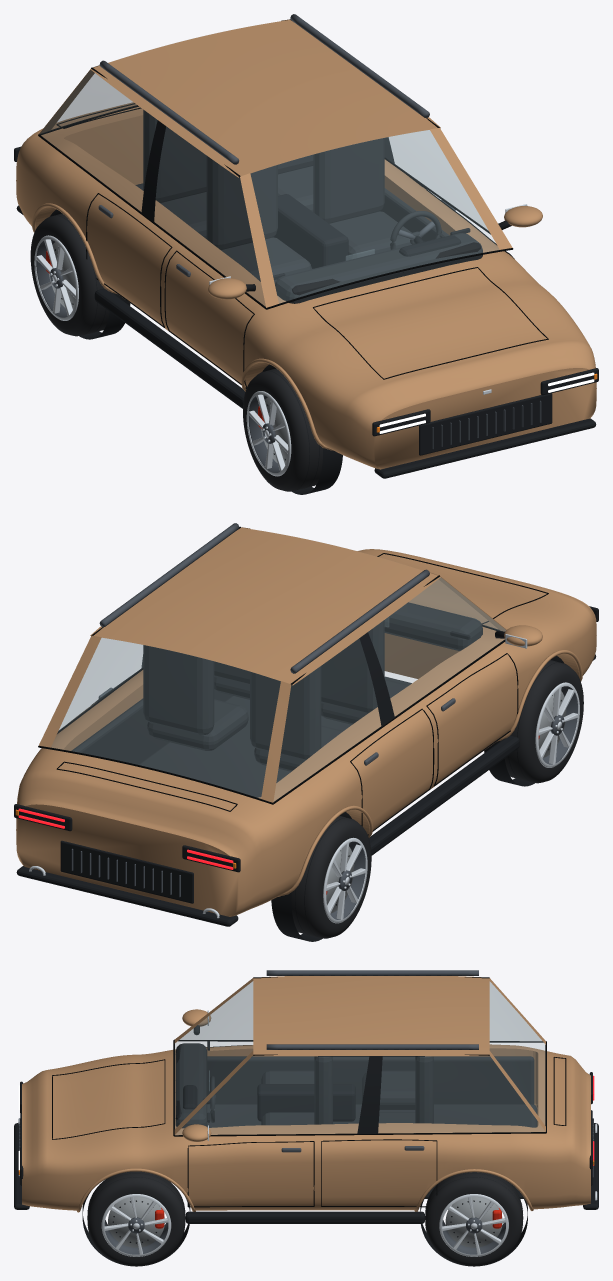
File: cross.glb
The picture shows the model from 3 angles, top to bottom: view 1: azimuth 30°, elevation 25°; view 2: azimuth 150°, elevation 25°; view 3: azimuth 270°, elevation 25°; orthographic projection. The views are drawn at different scales.
Parts seen in each view (by area): view 1: Sculpted body shell.014, Painted roof.014, Windshield.014, Side glass.028, Interior seat back.047, Interior dashboard.014, Interior seat back.046, Tire.058, Front grille housing.014, Tire.056, Side glass.029, Interior seat back.048 (+30 smaller); view 2: Sculpted body shell.014, Painted roof.014, Rear glass.014, Side glass.028, Interior seat back.049, Interior cabin floor.014, Interior seat back.048, Tire.056, Rear diffuser grille.014, Tire.058, Interior seat back.046, Interior door card.029 (+30 smaller); view 3: Sculpted body shell.014, Side glass.029, Painted roof.014, Interior door card.028, Windshield.014, Tire.059, Rear glass.014, Tire.057, Side glass.028, Interior cabin floor.014, Rocker aero sill.029, Interior centre console.014 (+28 smaller).
Part boxes in pixels (box(x1,y1,x2,y2)): Sculpted body shell.014: box(16, 102, 596, 469); Painted roof.014: box(98, 20, 432, 174); Windshield.014: box(251, 130, 499, 303); Side glass.028: box(40, 70, 265, 306); Interior seat back.047: box(313, 138, 384, 223); Interior dashboard.014: box(275, 233, 482, 303); Interior seat back.046: box(206, 156, 277, 249); Tire.058: box(243, 368, 322, 491); Front grille housing.014: box(419, 393, 552, 455); Tire.056: box(30, 213, 109, 336); Side glass.029: box(385, 130, 487, 229); Interior seat back.048: box(143, 109, 206, 202); Sculpted body shell.014: box(16, 549, 596, 916); Painted roof.014: box(99, 528, 432, 682); Rear glass.014: box(51, 638, 280, 798); Side glass.028: box(274, 578, 505, 801); Interior seat back.049: box(143, 645, 214, 735); Interior cabin floor.014: box(139, 676, 411, 797); Interior seat back.048: box(250, 666, 321, 760); Tire.056: box(291, 815, 371, 938); Rear diffuser grille.014: box(60, 840, 193, 903); Tire.058: box(504, 660, 583, 783); Interior seat back.046: box(321, 620, 384, 714); Interior door card.029: box(71, 690, 232, 764); Sculpted body shell.014: box(22, 1044, 590, 1210); Side glass.029: box(176, 1056, 544, 1134); Painted roof.014: box(253, 976, 489, 1055); Interior door card.028: box(207, 1056, 534, 1104); Windshield.014: box(175, 982, 252, 1128); Tire.059: box(87, 1171, 185, 1266); Rear glass.014: box(490, 982, 545, 1124); Tire.057: box(425, 1172, 523, 1266); Side glass.028: box(180, 982, 541, 1040); Interior cabin floor.014: box(207, 1104, 537, 1127); Rocker aero sill.029: box(185, 1211, 424, 1223); Interior centre console.014: box(257, 1084, 355, 1121).
Bounding box in the file's own units: 2.29 × 1.75 × 4.41.
